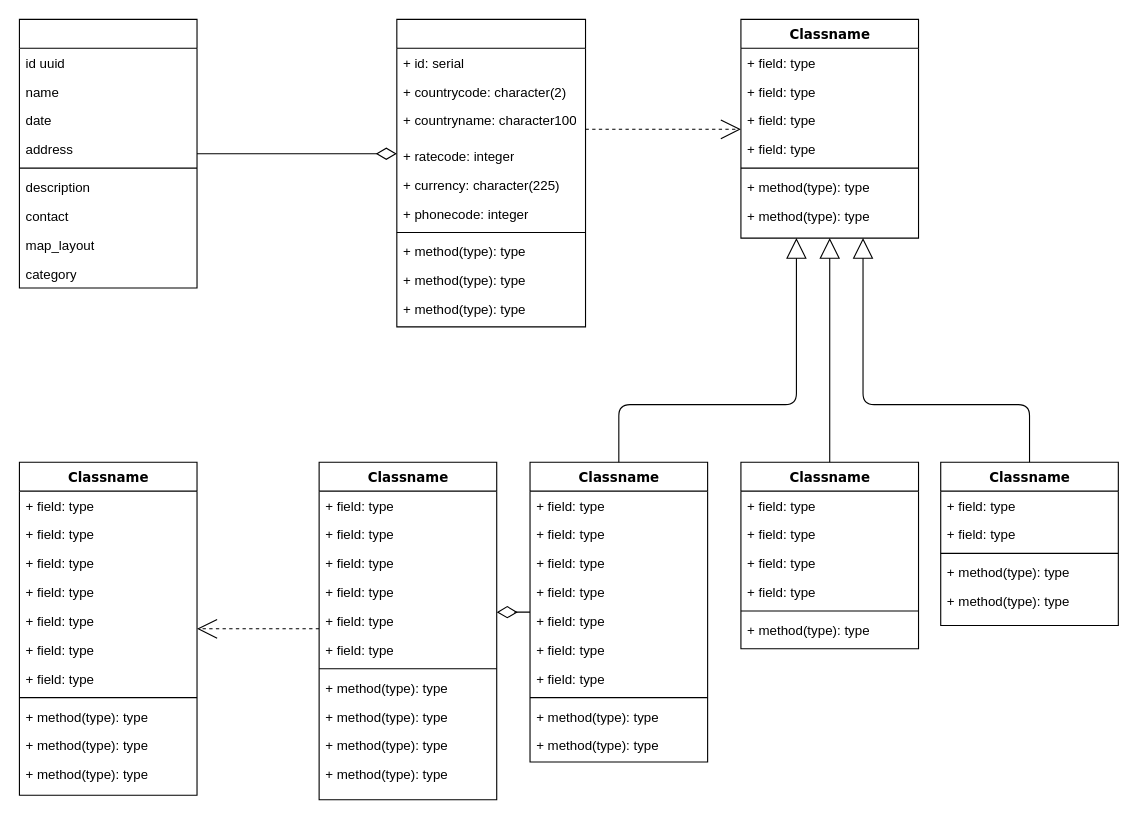
The diagram is 1138 pixels wide and 819 high, and some of its shapes have lost their labels. Here are the shapes that lost their labels. From the top down, the box of each, then its label:
(18, 18, 197, 288): Shows
(396, 18, 586, 327): countries_new
